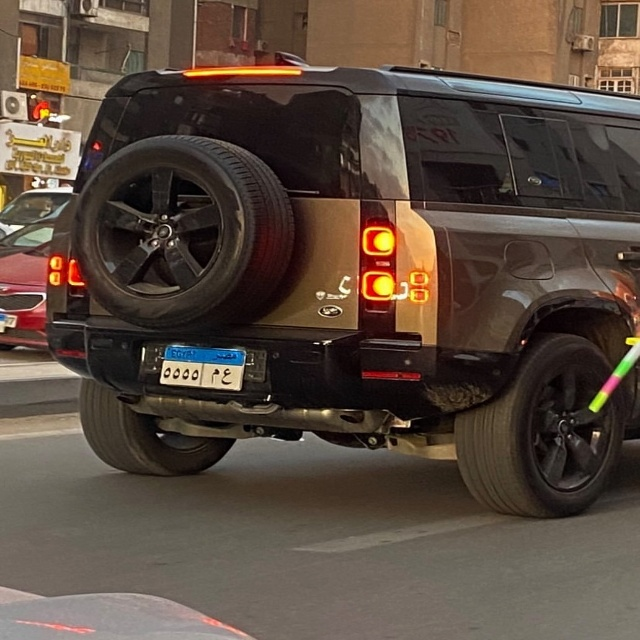License Plate: (155, 343, 248, 392)
